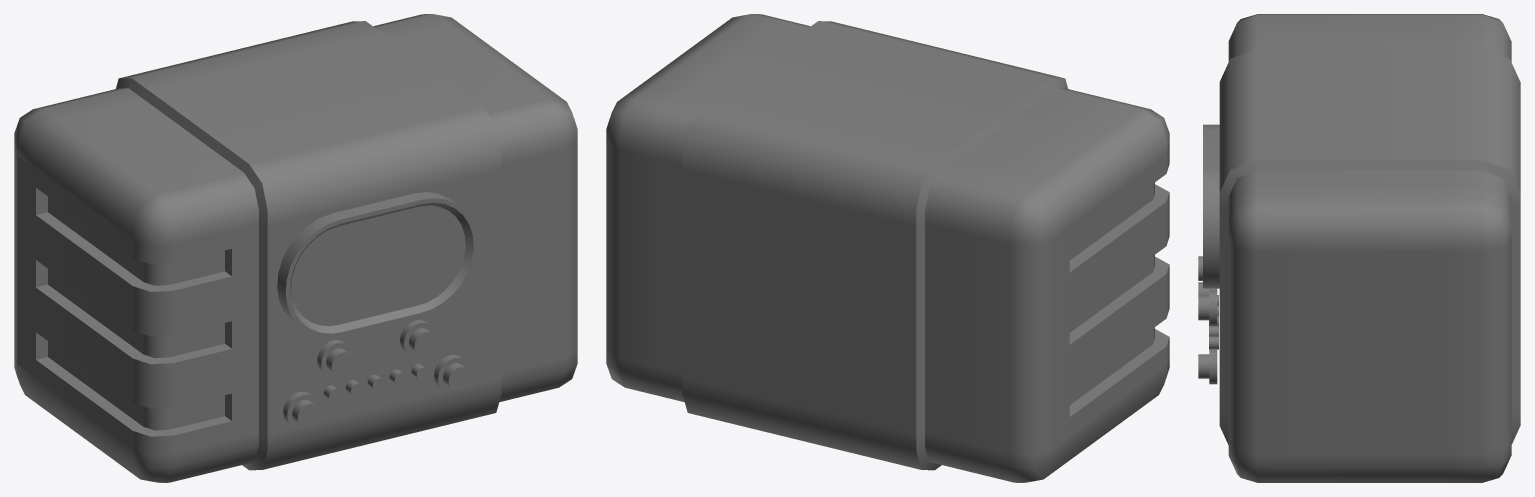
File: SM_OldRadio.fbx
The picture shows the model from 3 angles, left to right: view 1: azimuth 30°, elevation 25°; view 2: azimuth 150°, elevation 25°; view 3: azimuth 270°, elevation 25°; orthographic projection. The views are drawn at different scales.
Visible parts, largest first — view 1: SM_OldRadio_mesh; view 2: SM_OldRadio_mesh; view 3: SM_OldRadio_mesh.
Part boxes in pixels (<box>): SM_OldRadio_mesh: <box>14,14,577,482</box>; SM_OldRadio_mesh: <box>606,14,1169,482</box>; SM_OldRadio_mesh: <box>1198,14,1520,482</box>.
Size of the model in its own units: 0.4384 by 0.2905 by 0.2844.
1 material, 1 textured.
